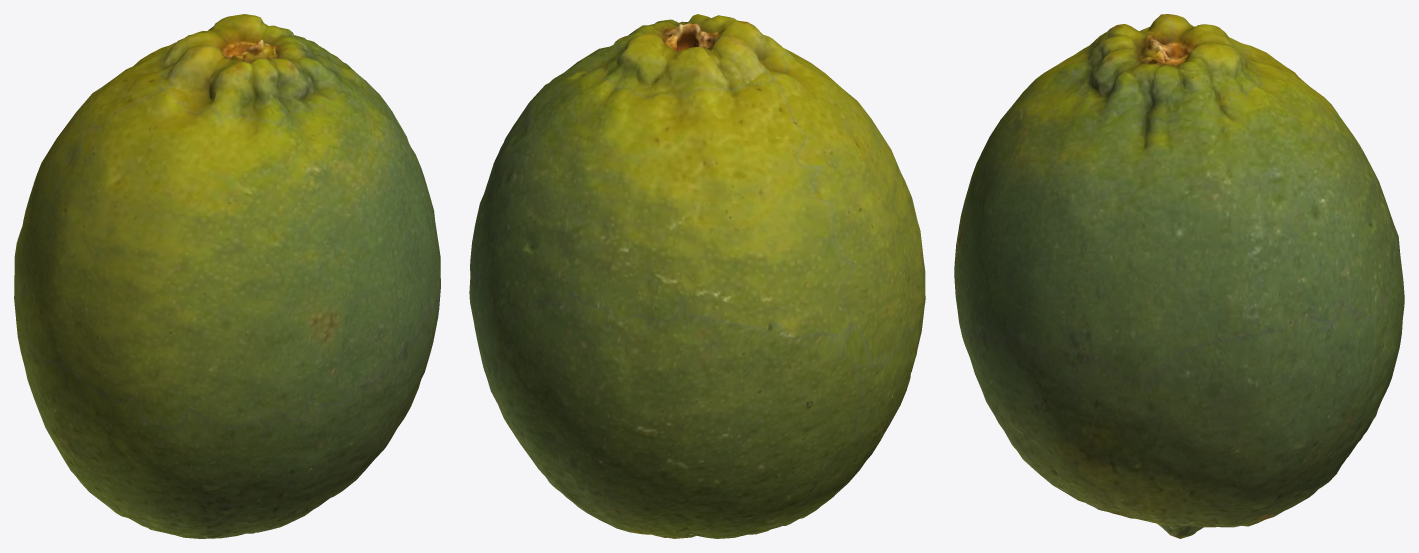
Rendered from food_lime_01.glb.
The picture shows the model from 3 angles, left to right: view 1: azimuth 30°, elevation 25°; view 2: azimuth 150°, elevation 25°; view 3: azimuth 270°, elevation 25°; orthographic projection.
Parts seen in each view (by area): view 1: food_lime_01; view 2: food_lime_01; view 3: food_lime_01.
Part boxes in pixels (bbox=[...]): food_lime_01: bbox=[14, 14, 440, 538]; food_lime_01: bbox=[469, 14, 925, 538]; food_lime_01: bbox=[954, 14, 1404, 538].
Bounding box in the file's own units: 0.0601 × 0.0754 × 0.0613.
1 material, 1 textured.
